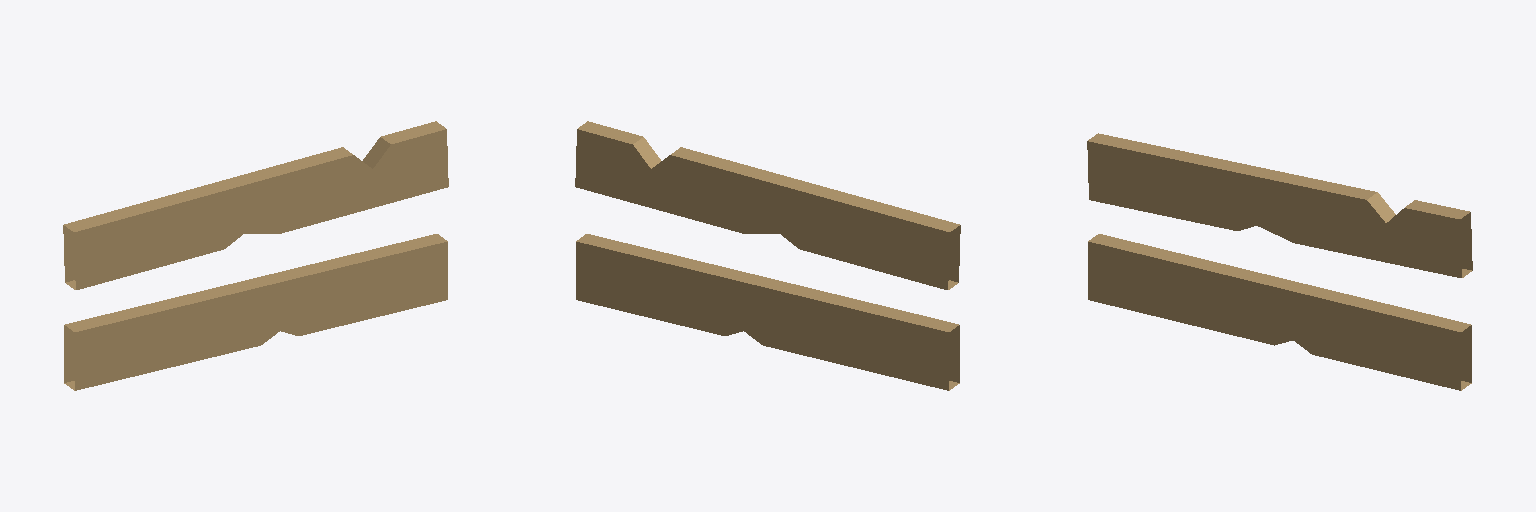
Rendered from Hilly_Prop_Fence_Boards_1.obj.
3 views of the same model, side by side, from view 1: azimuth 30°, elevation 25°; view 2: azimuth 150°, elevation 25°; view 3: azimuth 330°, elevation 25° (orthographic).
Parts seen in each view (by area): view 1: object1, object2; view 2: object1, object2; view 3: object1, object2.
Part boxes in pixels (x1,y1,x2,y2): object1: (64,234,447,390); object2: (63,121,448,289); object1: (576,234,959,390); object2: (575,121,960,289); object1: (1088,234,1471,390); object2: (1087,133,1472,277).
Bounding box in the file's own units: 1 × 0.4384 × 0.05.